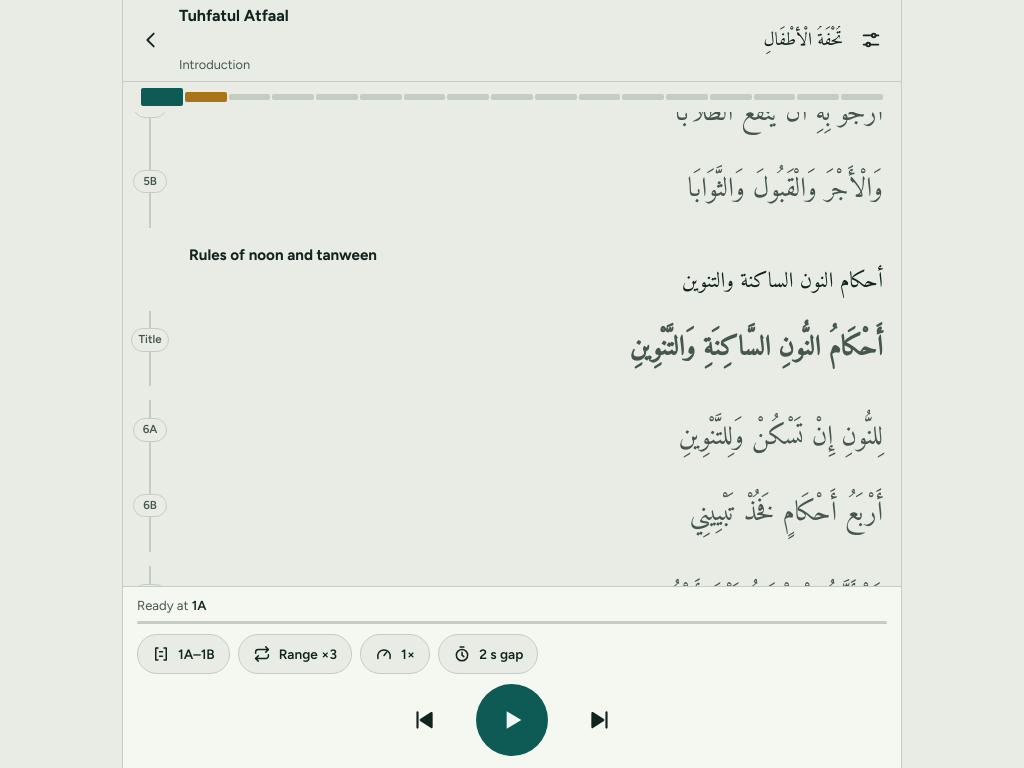
Test case: Player: layout › updates the section line as playback moves into the next section
The image size is (1024, 768).
(page scrolled)
Expected: the button named "Practice settings" is shown, [849,18,893,62]
Click the button with class "tr-row" that starts with "Title": coordinates (150, 340) [123,311,901,386]
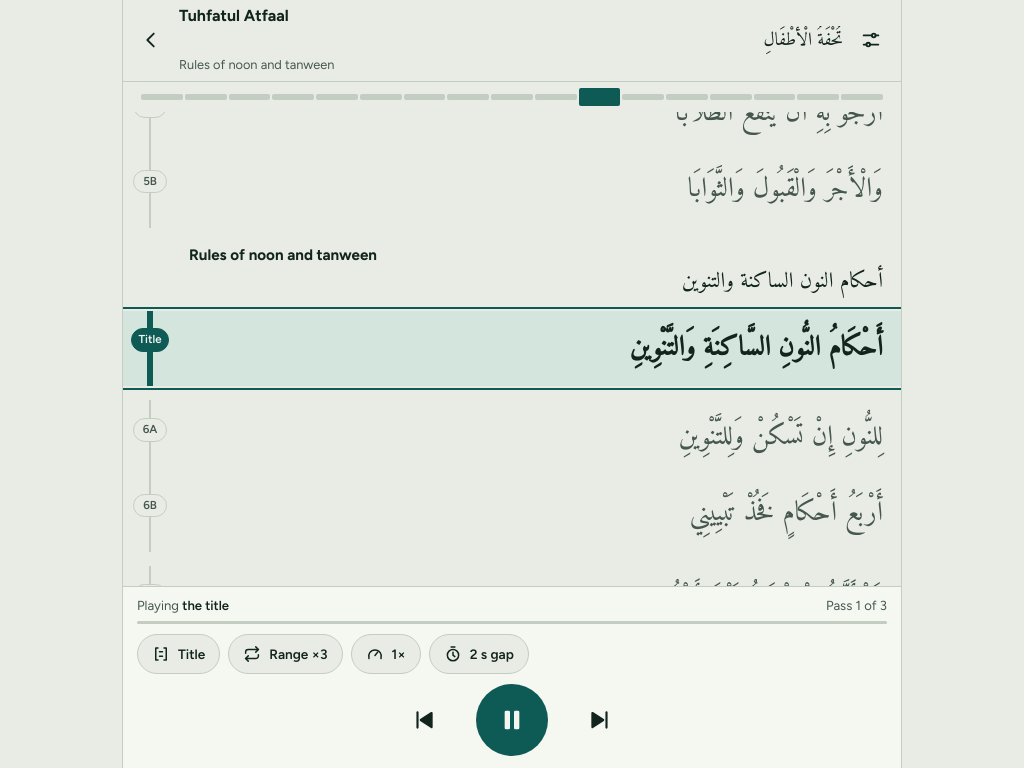
Now the text with class "sec" reads "Rules of noon and tanween", box [179,57,334,72]
